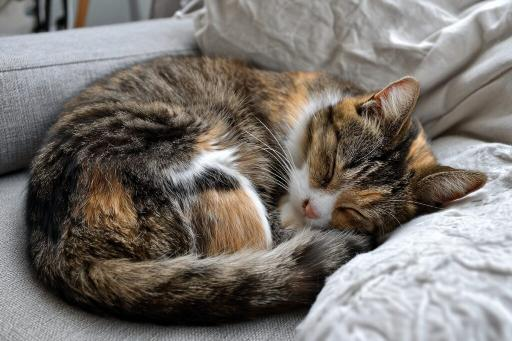cat_sleeping: (26, 56, 487, 324)
